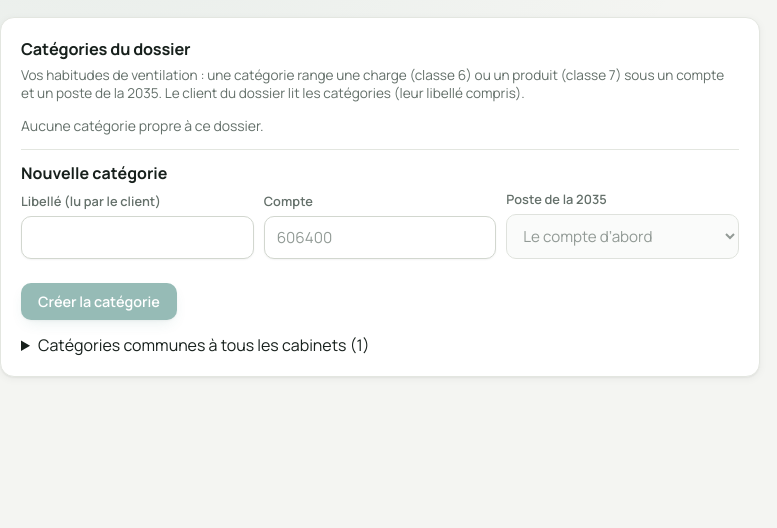
Test case: la carte des catégories du dossier › dit le refus du barème avant le clic
The image size is (777, 528).
Expected: the button "Créer la catégorie" is shown, [21,283,177,320]
In the field labelled "Libellé (lu par le client)": (137, 238) [21,216,254,259], type "Kilomètres"
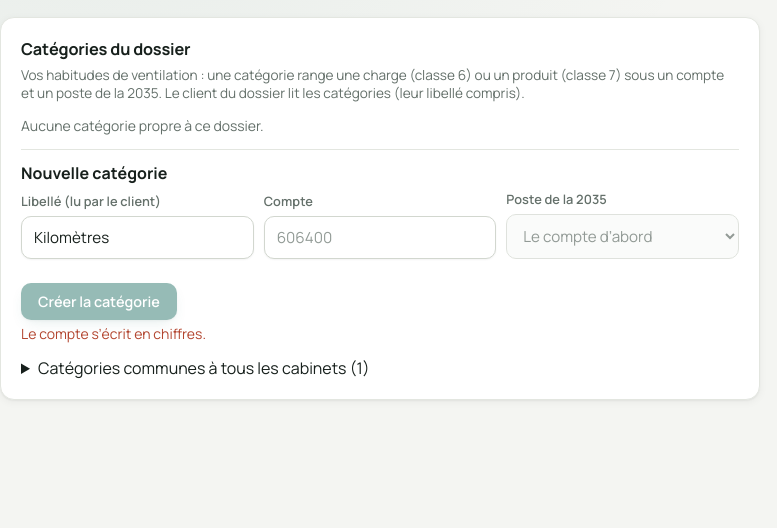
In the field labelled "Compte": (380, 238) [264,216,496,259], type "625110"
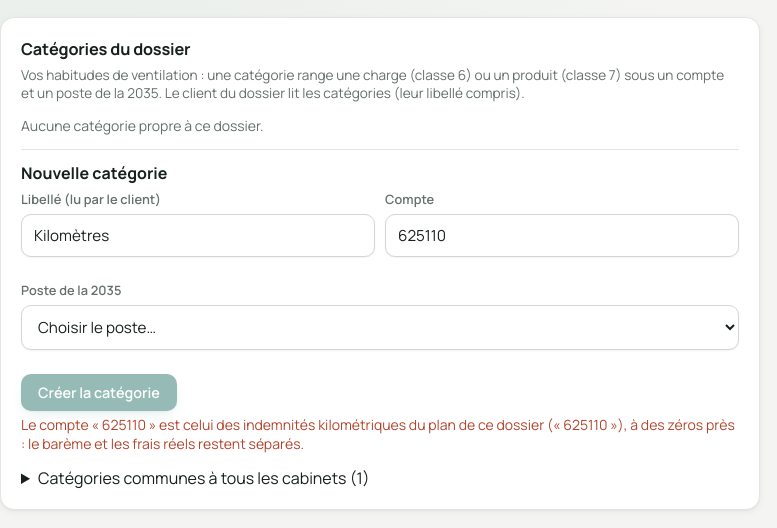
Expected: the text "celui des indemnités kilométriques du plan de ce dossier" is shown, [21,415,735,453]
